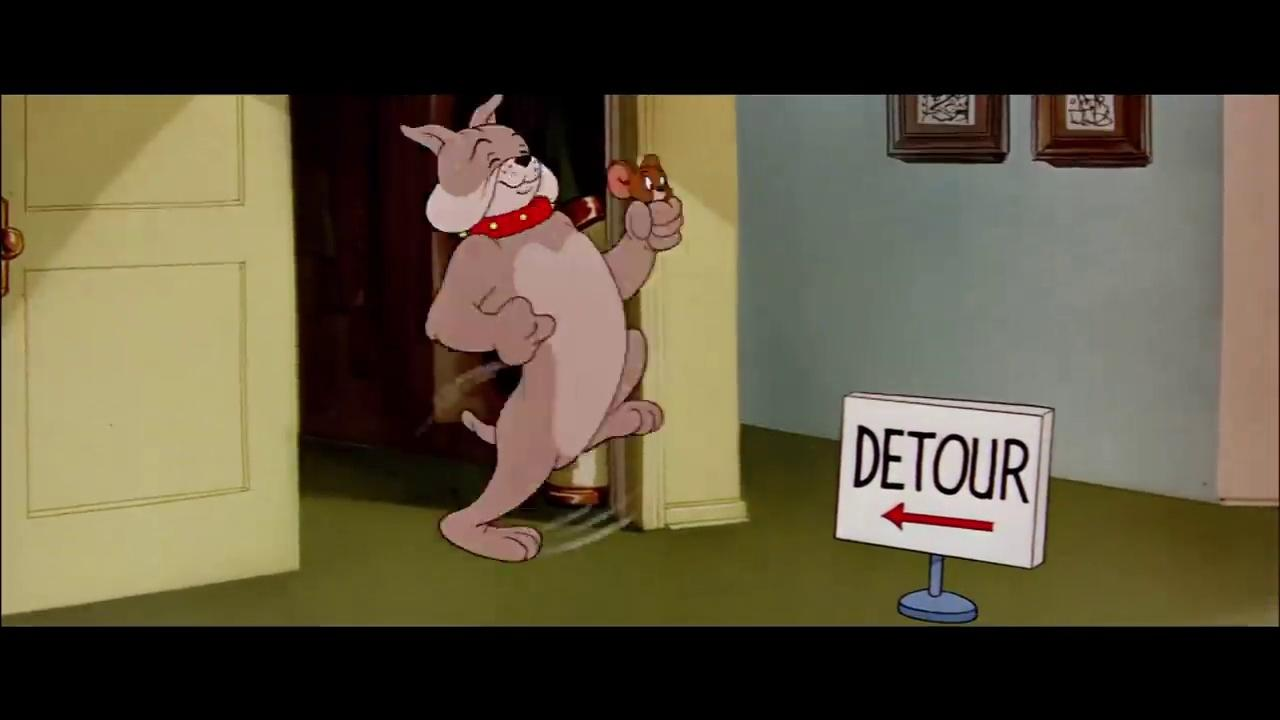Jerry: (601, 150, 683, 206)
